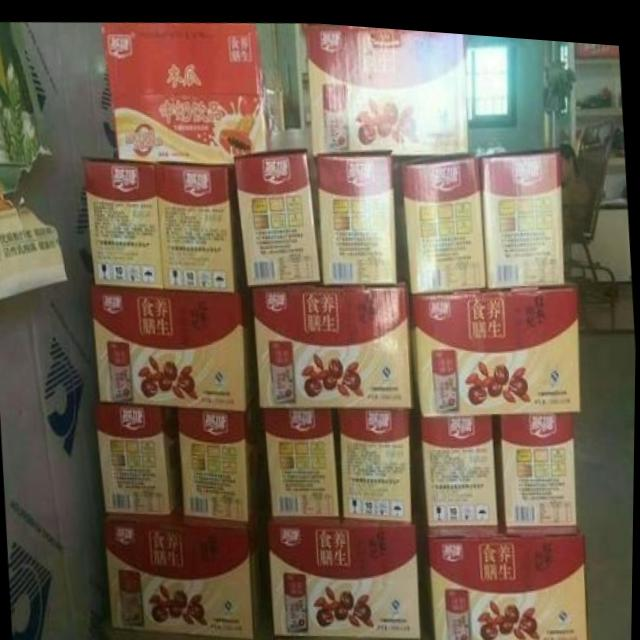box: (101, 21, 285, 163), (410, 278, 579, 414), (419, 512, 591, 640), (302, 18, 468, 149), (249, 279, 411, 404), (97, 283, 258, 408), (109, 512, 270, 634), (271, 518, 423, 632), (236, 144, 327, 292), (411, 382, 499, 528), (396, 147, 484, 290), (479, 142, 565, 282), (157, 159, 249, 289), (316, 148, 398, 281), (177, 403, 270, 518), (85, 158, 163, 289), (495, 402, 576, 526), (99, 402, 180, 516), (265, 404, 344, 519), (341, 403, 414, 518)
